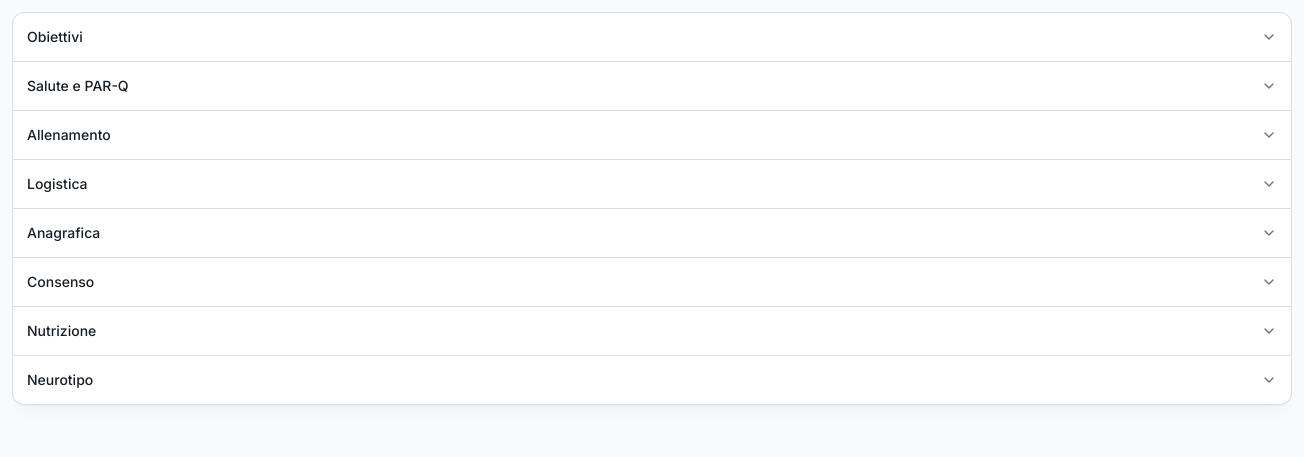
Test: linguetta Intervista — il gruppo Neurotipo dice QUALE dei quattro casi e › assente: dice che il questionario c e ma la sezione non e stata compilata
Click the button "Neurotipo" at (60, 380), box [13,356,1291,404]
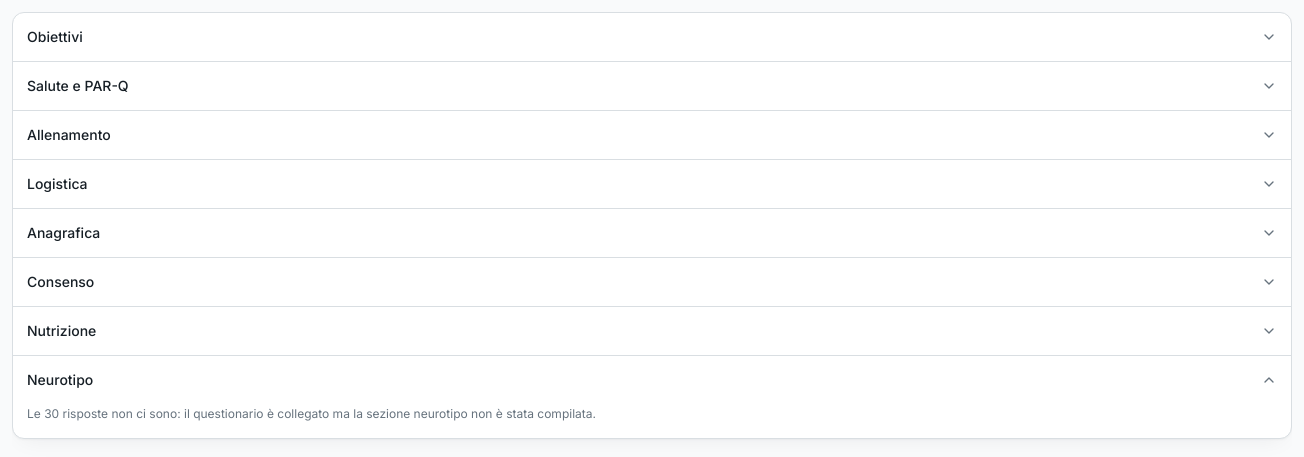
Now the text "la sezione neurotipo non è stata compilata" is shown, box [27,406,596,421]
